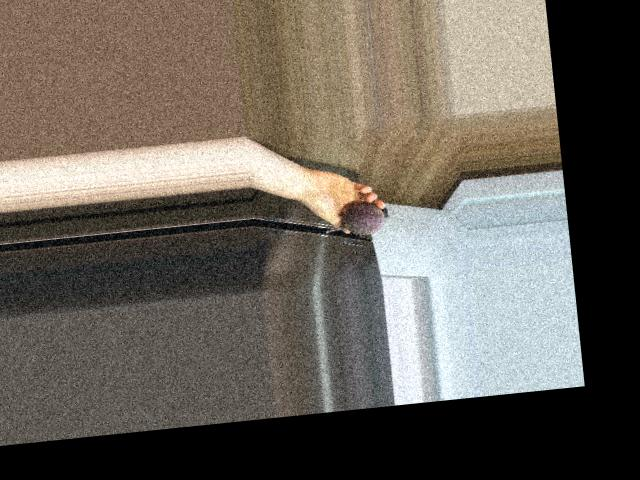beet: (324, 201, 390, 238)
